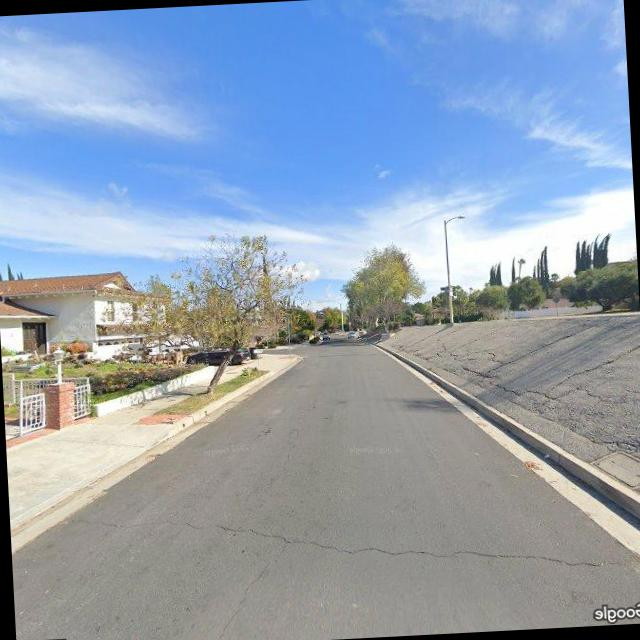crack: (80, 478, 630, 604), (214, 540, 300, 638)
